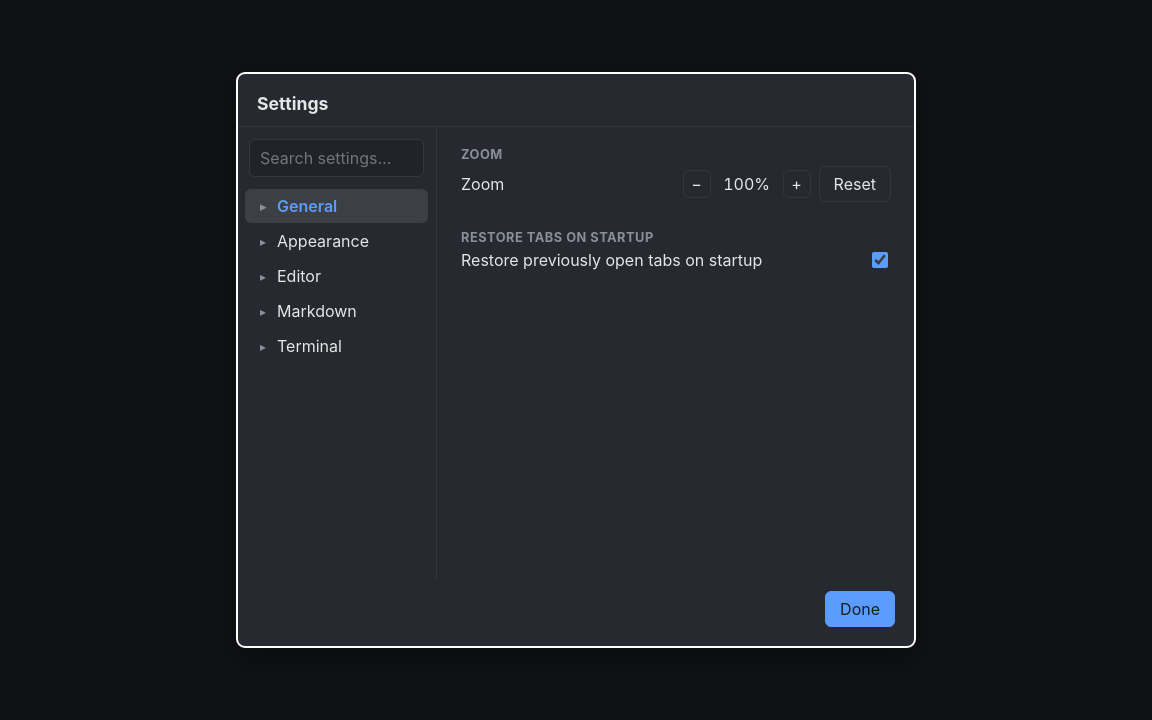
SettingsDialog › sidebar navigation › clicking a category switches the visible content and marks it selected
The image size is (1152, 720).
Click the list item "Appearance".
click(311, 241)  # box [253,231,369,251]
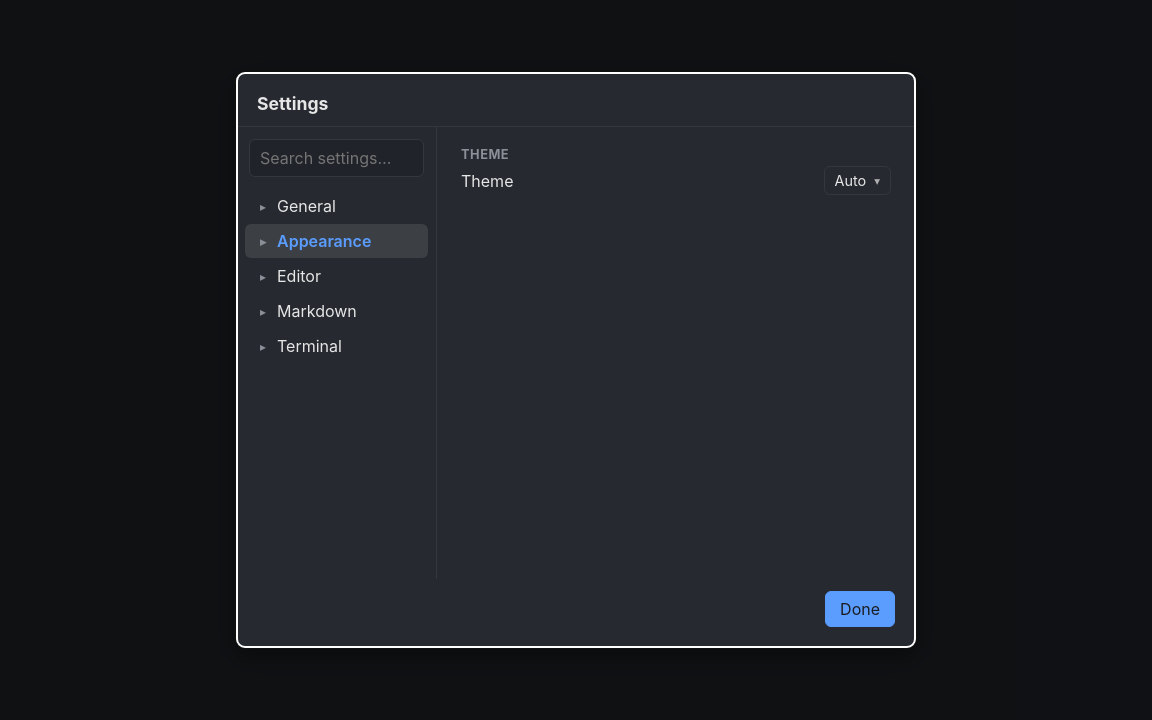
Expected: the heading "Theme" is shown, [461,147,509,162]
Expected: the heading "Zoom" is gone
